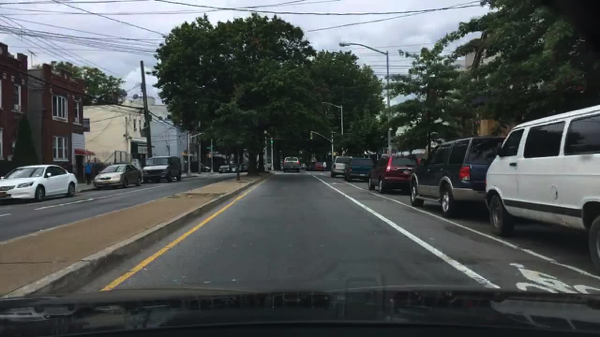car: (484, 105, 599, 273), (410, 135, 507, 219), (0, 165, 78, 204), (367, 156, 418, 193), (93, 164, 141, 190), (142, 156, 182, 183), (345, 157, 375, 182), (330, 156, 352, 177), (282, 157, 300, 172), (190, 161, 210, 172), (312, 161, 327, 171), (219, 165, 232, 174), (231, 165, 240, 172), (240, 164, 247, 171), (266, 162, 272, 169), (307, 163, 312, 170), (301, 163, 306, 169)
person: (85, 160, 91, 185), (323, 161, 327, 171)
traffic light: (183, 151, 188, 156), (309, 133, 313, 139), (270, 137, 273, 143), (207, 154, 211, 158), (299, 151, 302, 154), (279, 150, 281, 154)
traffic sign: (207, 147, 211, 149), (327, 153, 331, 155)
